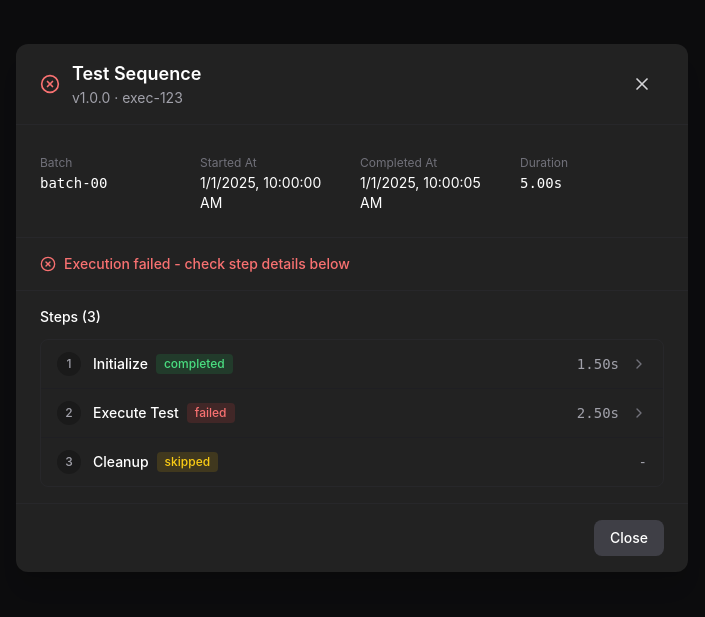
ResultDetailModal › should show result data when step is expanded
The width and height of the screenshot is (705, 617).
# Click on step with result data to expand
Click the text "Initialize".
click(120, 364)  # box [93,354,148,374]
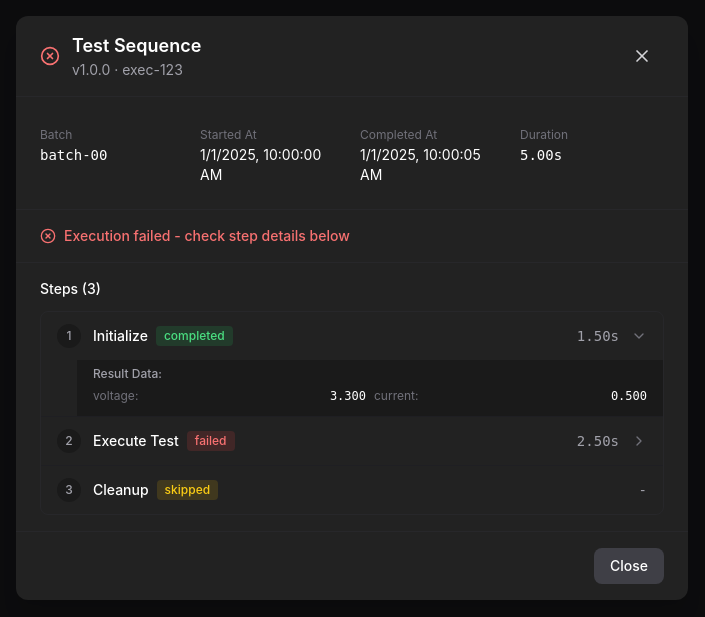
Now the text "voltage:" is shown, box [93,388,138,404]
Now the text "current:" is shown, box [374,388,418,404]
